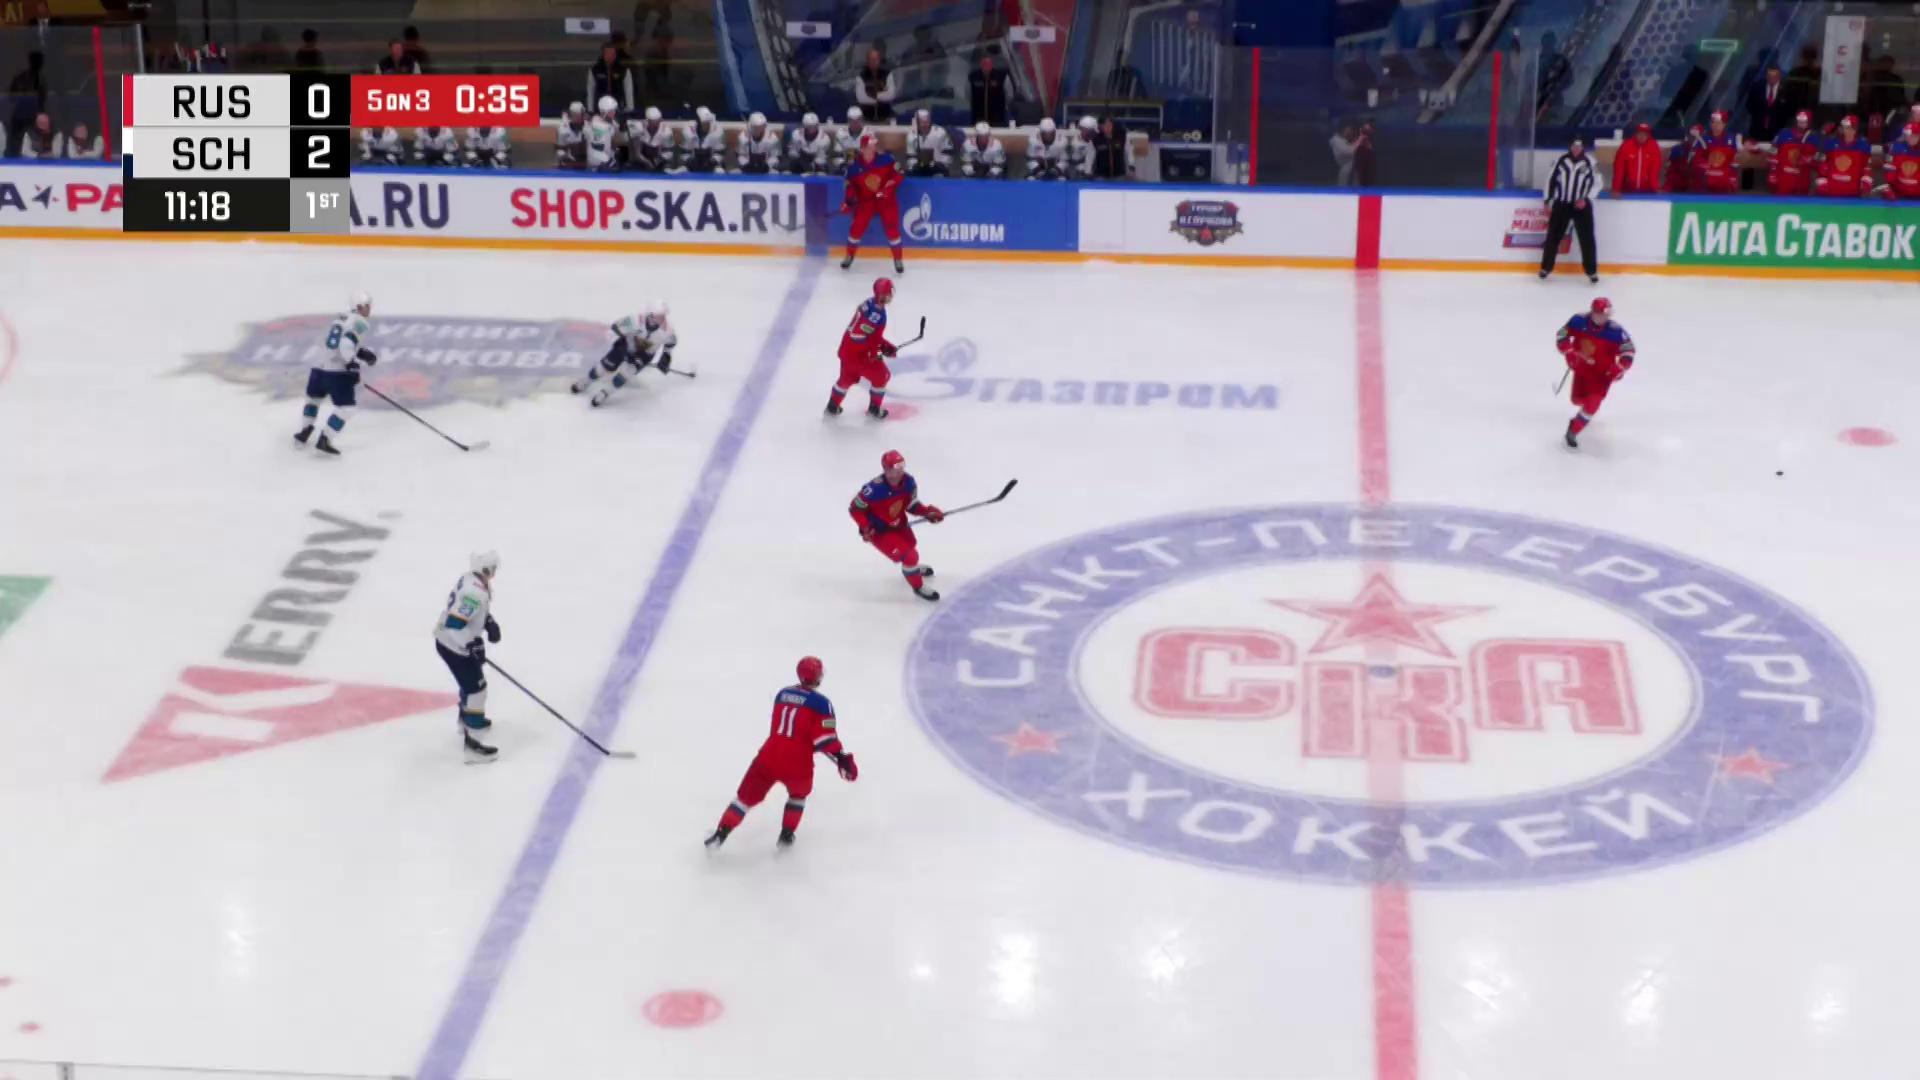ball: (1776, 471, 1784, 477)
